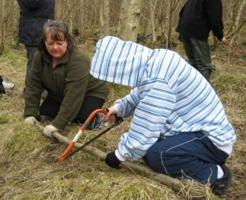person: (89, 36, 237, 196)
